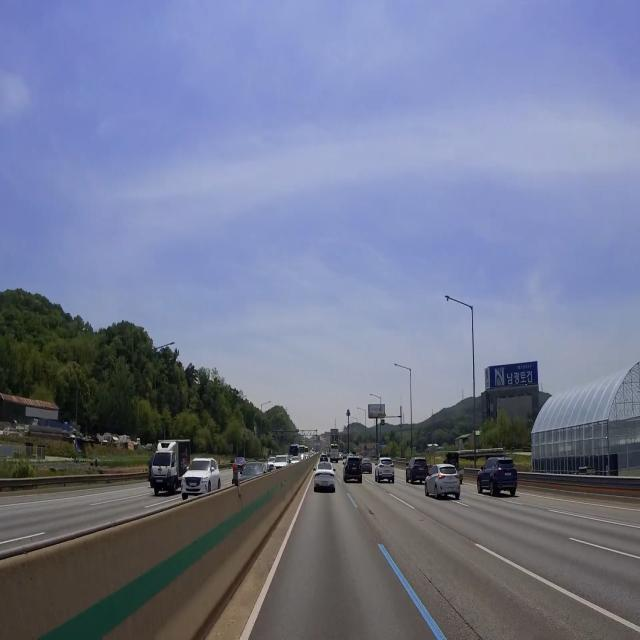car: (501, 461, 513, 483), (317, 475, 332, 492), (185, 475, 199, 491), (415, 463, 426, 479), (155, 474, 165, 488), (349, 464, 359, 475), (446, 482, 455, 494), (381, 471, 394, 478)
